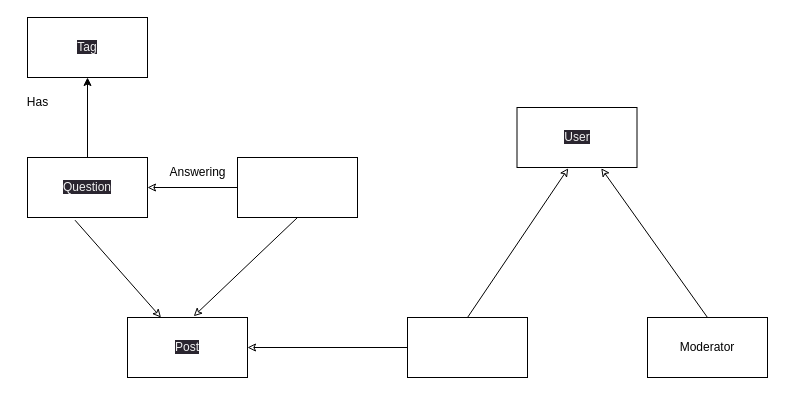
The diagram is 785 pixels wide and 395 high, and some of its shapes have lost their labels. Each missing label, with the box of its shape:
Answer: (236, 156, 358, 218)
Regular: (406, 316, 528, 378)
